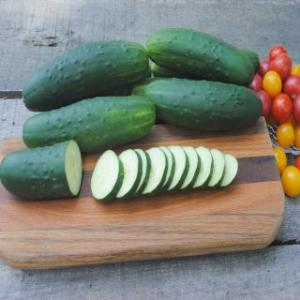cucumber: (21, 40, 148, 110), (21, 94, 154, 154), (144, 28, 252, 86), (148, 78, 262, 132), (1, 140, 81, 202)
